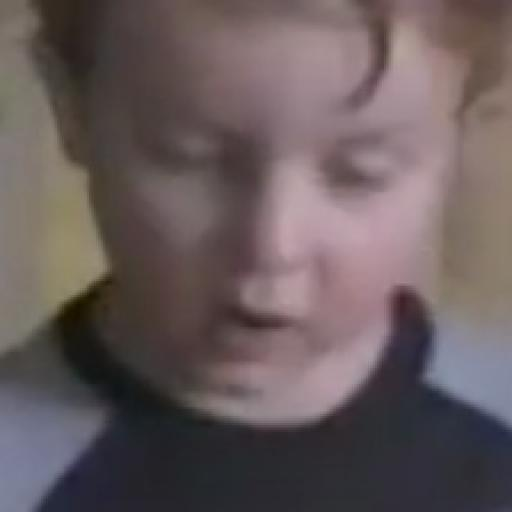Autism: (52, 16, 507, 458)
